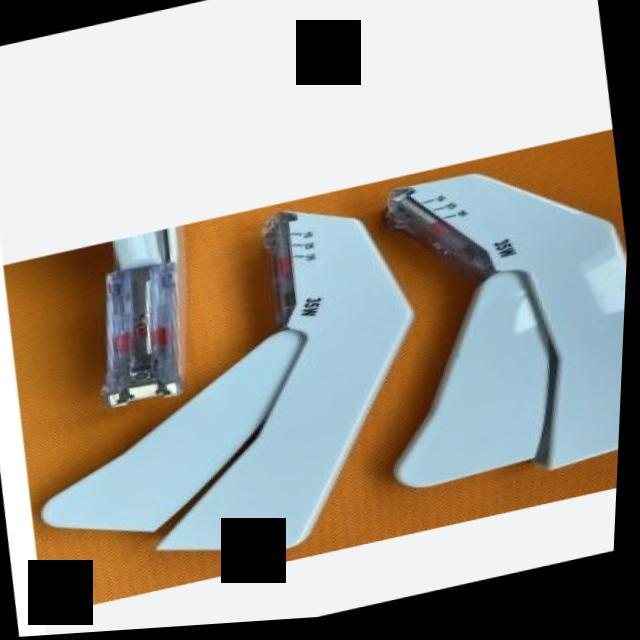Senn Retractor: (6, 186, 455, 611), (350, 137, 634, 512)
